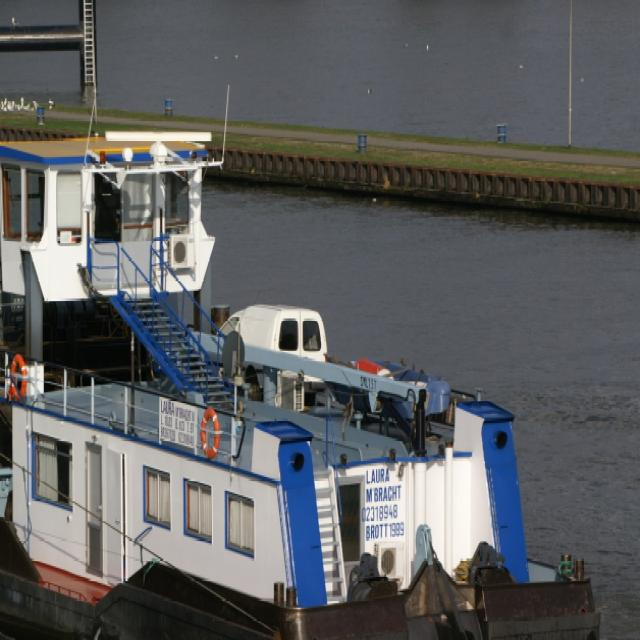tugboat: (1, 72, 608, 640)
